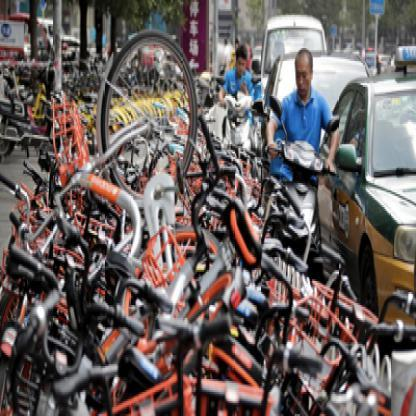Without Helmet: (293, 46, 317, 100), (233, 37, 249, 80)
